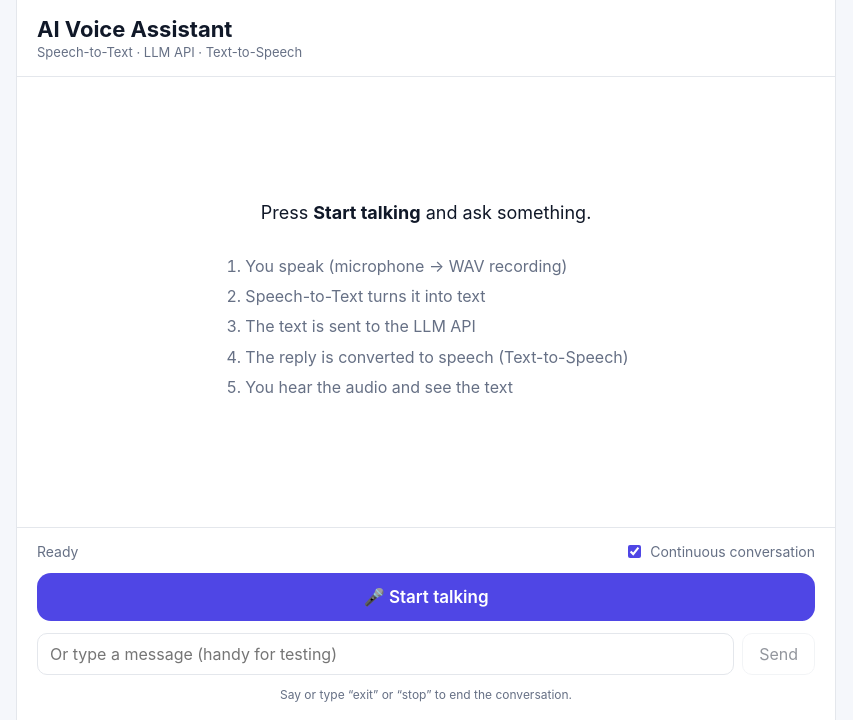
Test: AI Voice Assistant › shows API errors and puts the text back in the input
Type "hello there" into the field labelled "message".
click(386, 654); type("hello there")  # box [37,633,734,675]
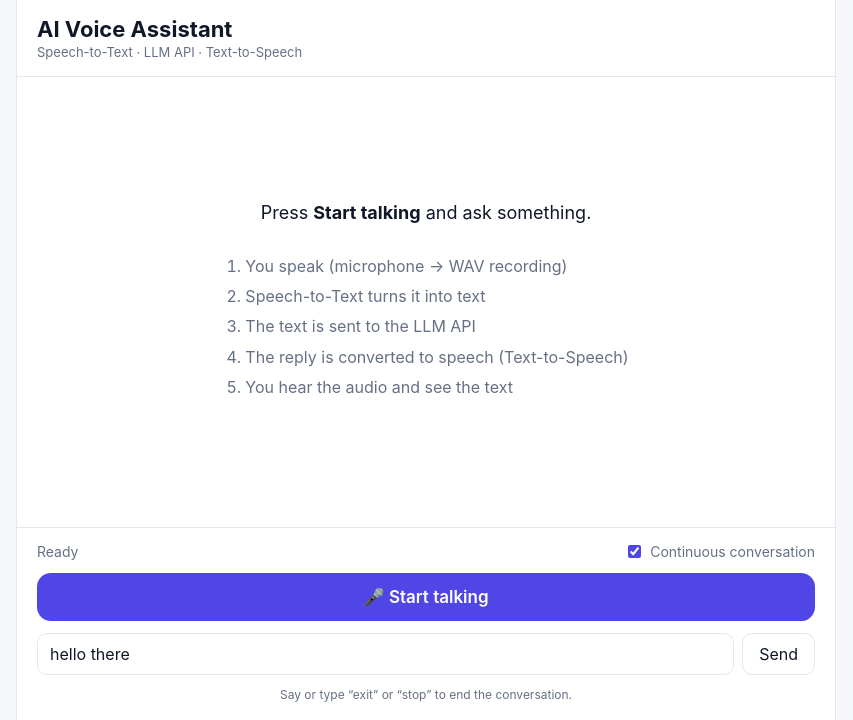
Click the button "Send".
click(779, 654)  # box [742,633,815,675]
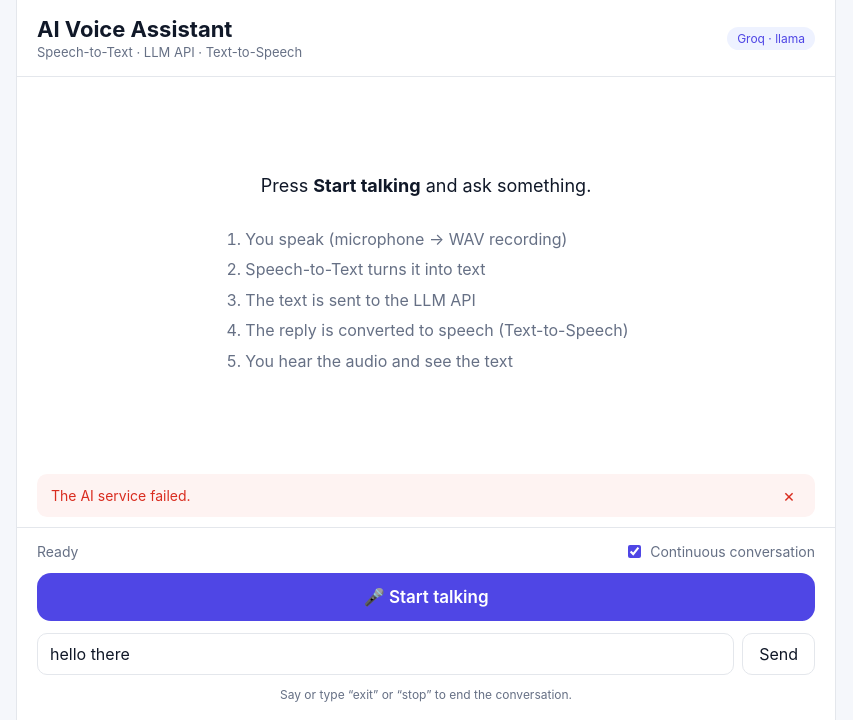
Expected: the text "Ready" is shown, [37,543,78,560]
Now the text "The AI service failed." is shown, box [51,487,190,504]
